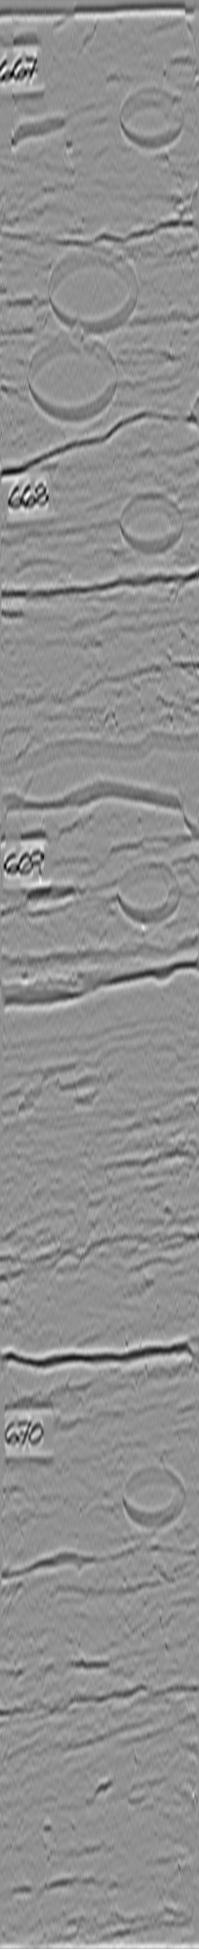hplug: (108, 855, 190, 925), (112, 1459, 190, 1531), (114, 485, 188, 557), (116, 80, 188, 149)
scal: (44, 247, 144, 336), (24, 337, 122, 425)
vplug: (14, 805, 90, 983), (24, 1415, 99, 1569), (7, 7, 80, 149)
